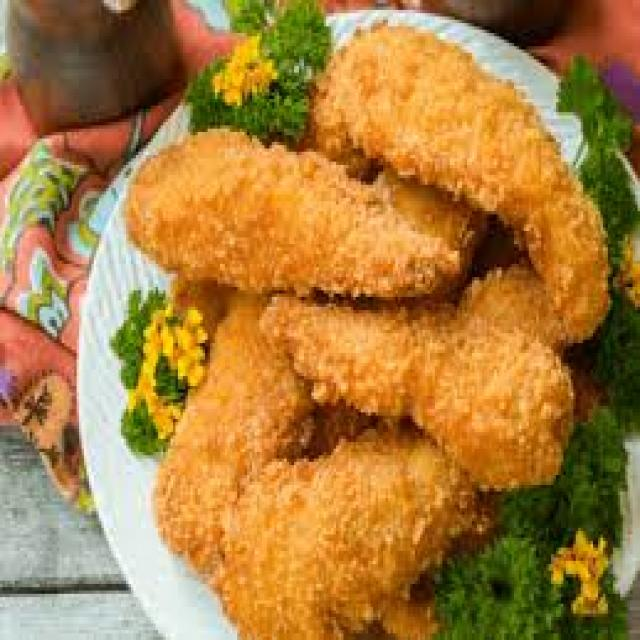Frango: (111, 26, 613, 640)
